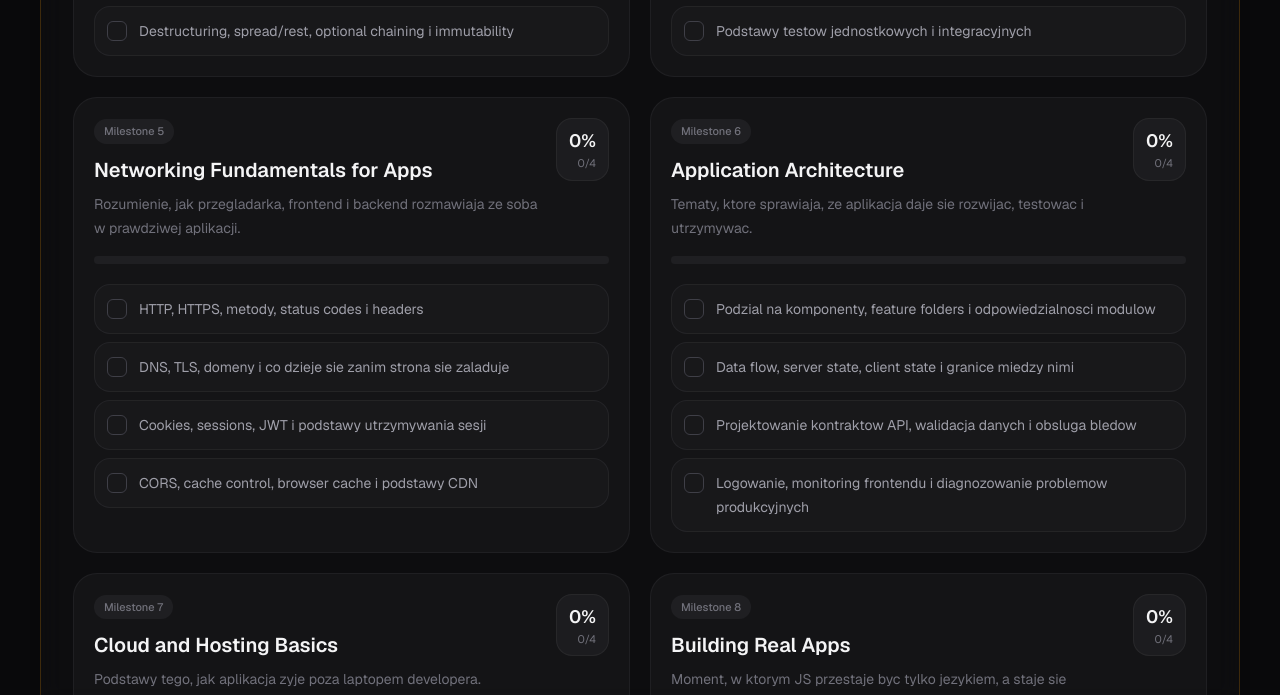
LearningRoadmapBoard › persists topic progress in localStorage after marking an item as read
This screenshot has width=1280, height=695.
(page scrolled)
What coordinates should you click on to do the following:
click the button "HTTP, HTTPS, metody, status codes i headers"
I would click on:
 (352, 308)
Its box is [94, 284, 609, 334].
(page scrolled)
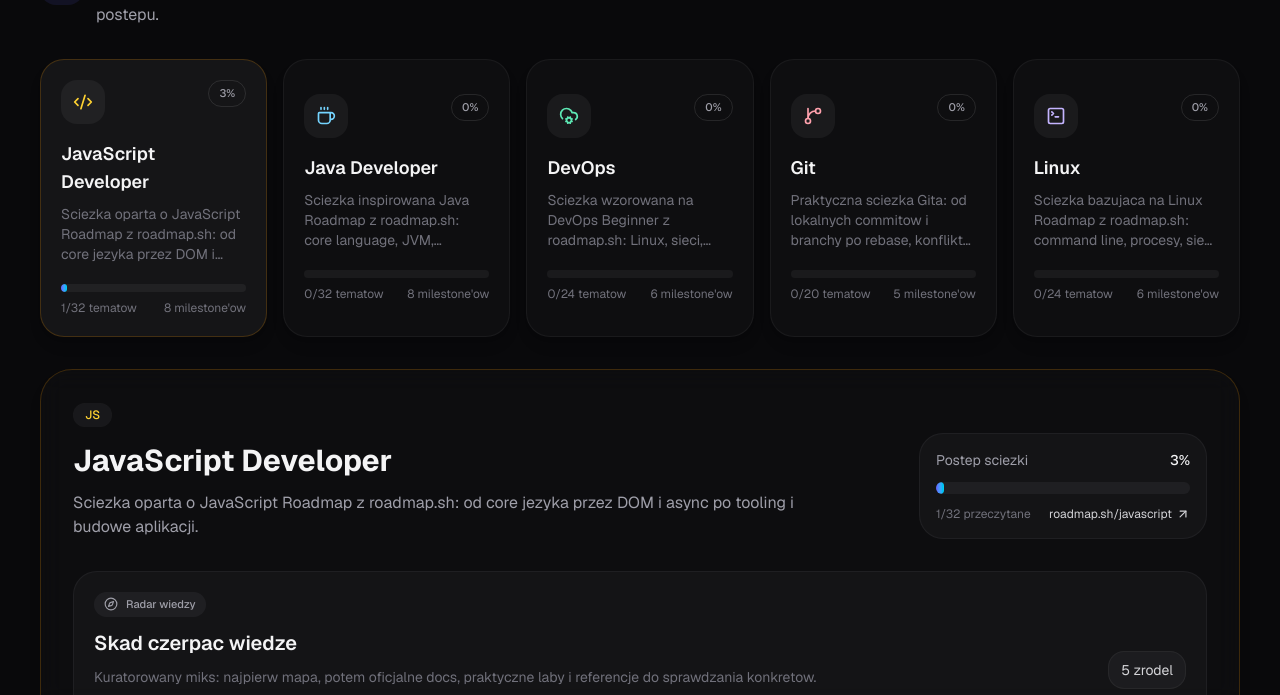
Check: the text "1/32 tematow" is shown, box [61, 300, 137, 316]
